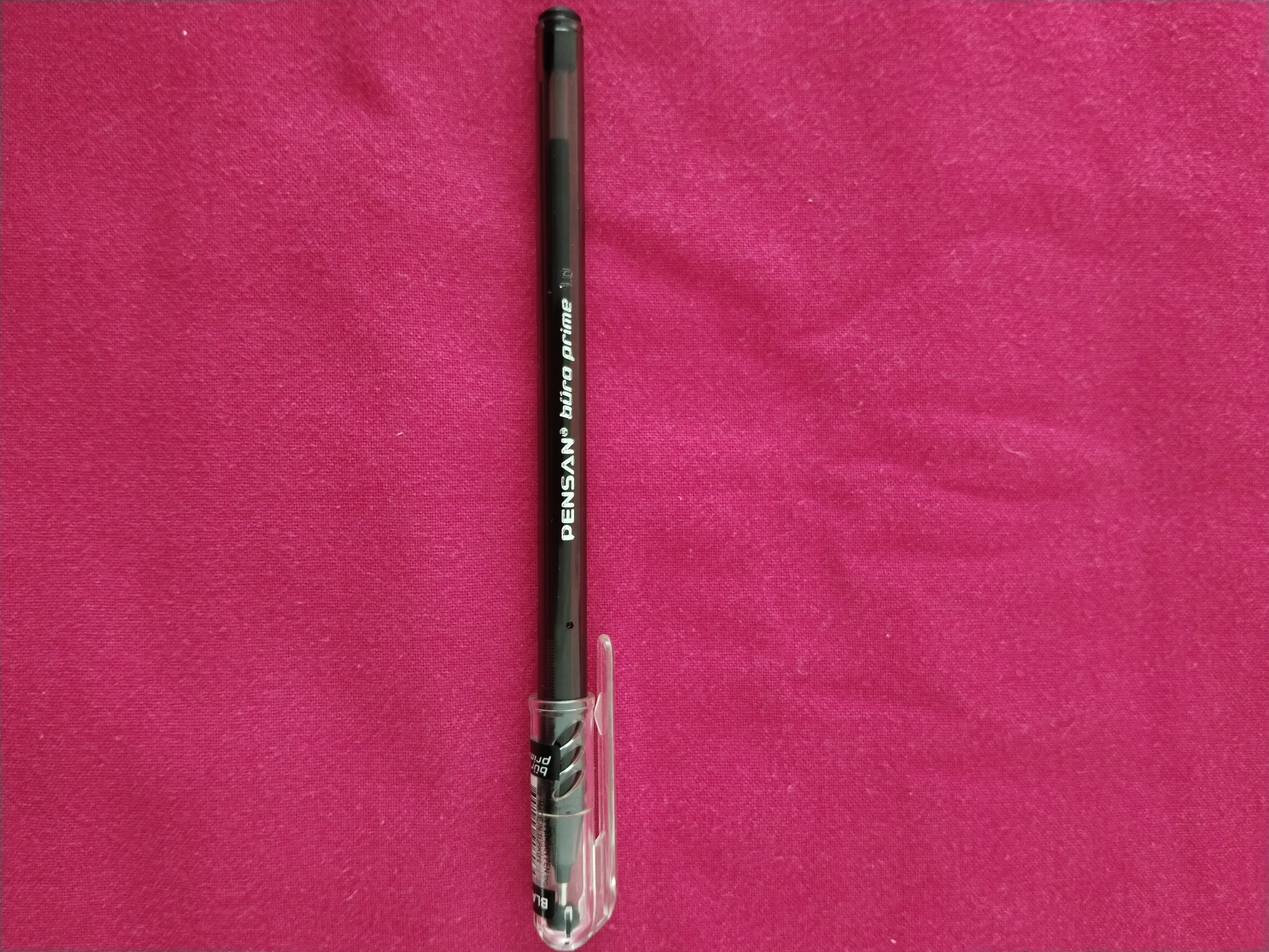pensan_siyah_tukenmez_kalem: (529, 7, 616, 952)
